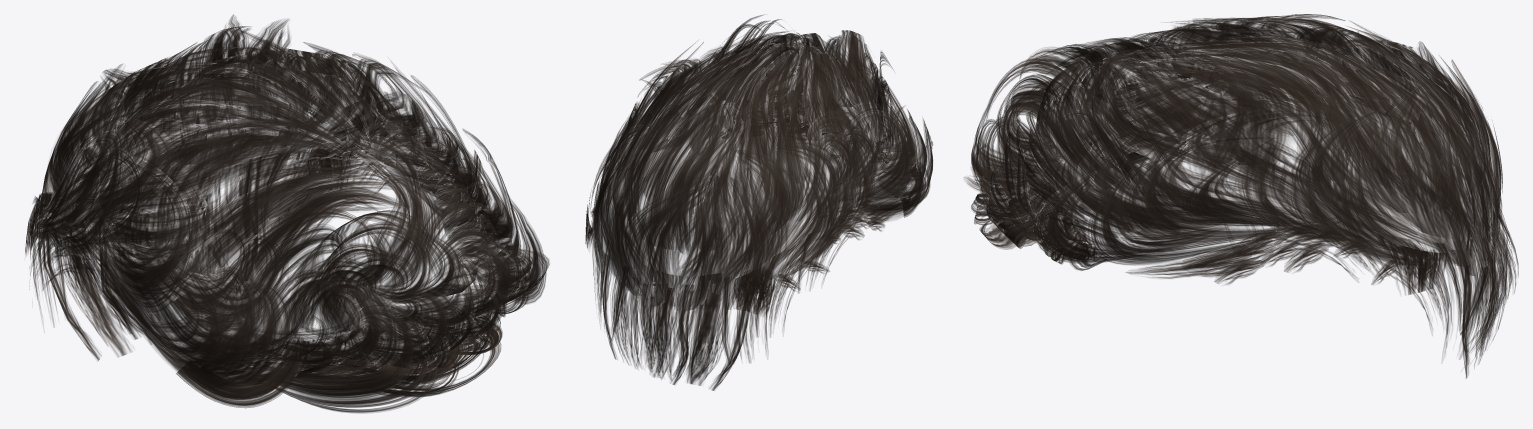
File: Round_Curly_Quiff.glb
3 renders of one model, left to right at view 1: azimuth 30°, elevation 25°; view 2: azimuth 150°, elevation 25°; view 3: azimuth 270°, elevation 25°, orthographic. The views are drawn at different scales.
Visible parts, largest first — view 1: s4studio_mesh_6_geom.005; view 2: s4studio_mesh_6_geom.005; view 3: s4studio_mesh_6_geom.005.
Boxes of the visible parts, x1=… form: s4studio_mesh_6_geom.005: x1=25, y1=14, x2=549, y2=413; s4studio_mesh_6_geom.005: x1=585, y1=14, x2=932, y2=390; s4studio_mesh_6_geom.005: x1=964, y1=14, x2=1518, y2=378.
Size of the model in its own units: 0.1844 by 0.1941 by 0.269.
1 material, 1 textured.
